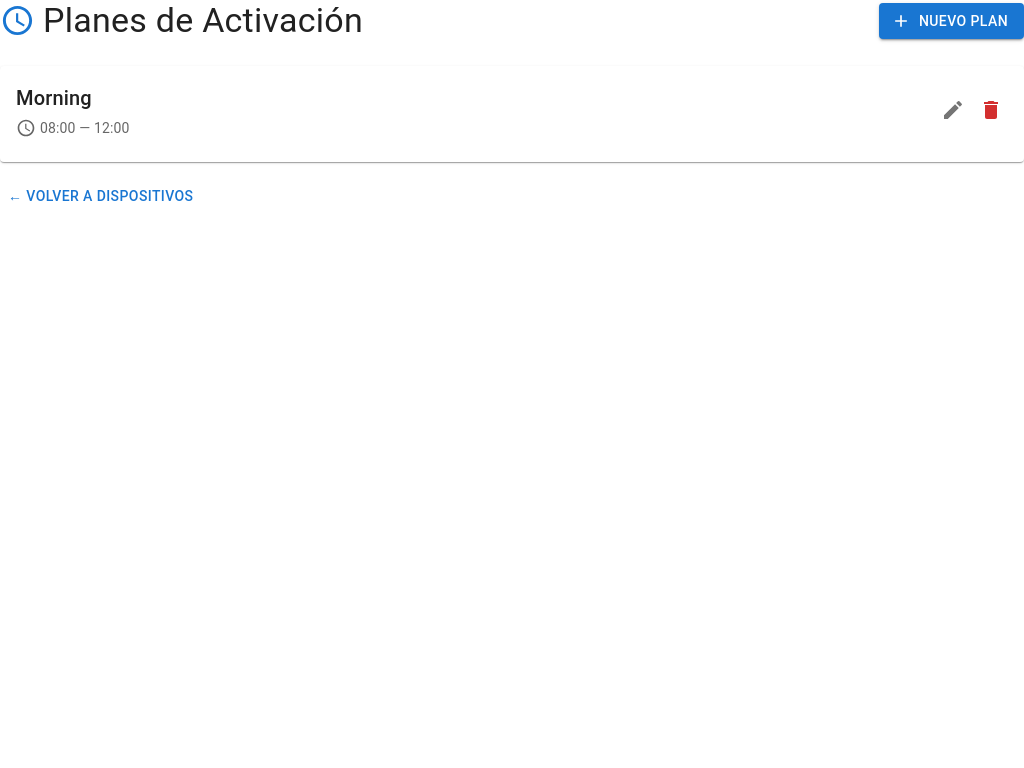
Test case: ActivationPlansPage › opens create dialog
The image size is (1024, 768).
expect the heading "Morning" is shown: met, box x1=16 y1=86 x2=92 y2=110
Step 1. Click the button "Nuevo Plan" → click(951, 21), box x1=879 y1=3 x2=1023 y2=39
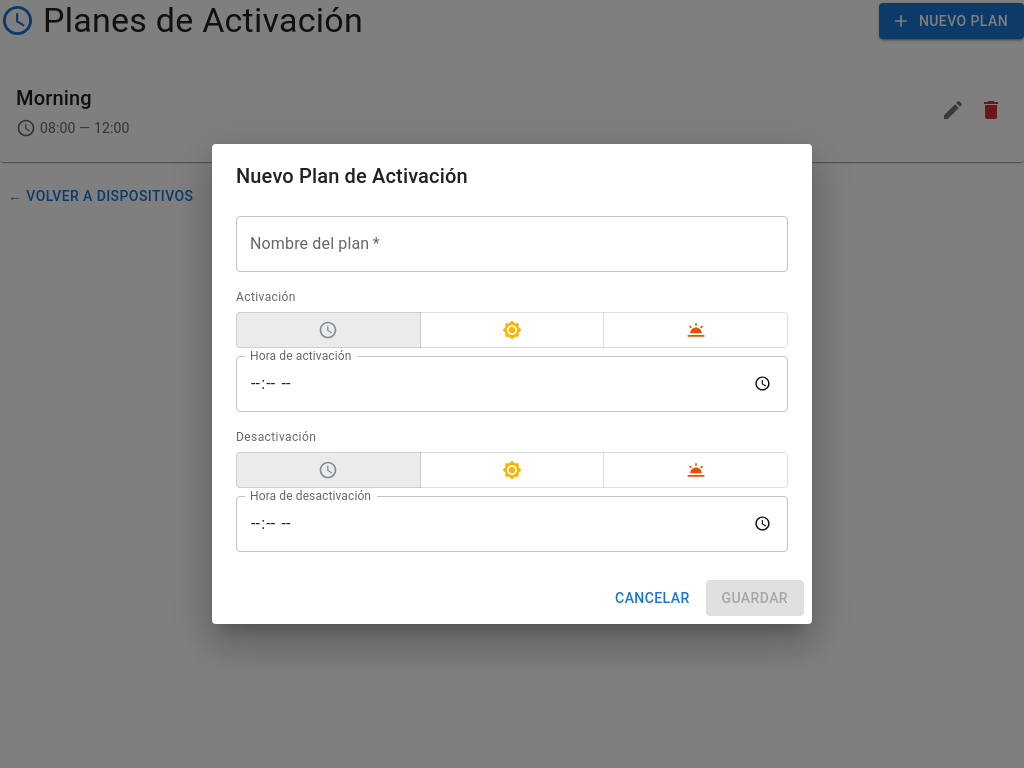
expect the heading "Nuevo Plan de Activación" is shown: met, box x1=236 y1=164 x2=468 y2=188
expect the button "Guardar" is shown: met, box x1=706 y1=580 x2=804 y2=616
